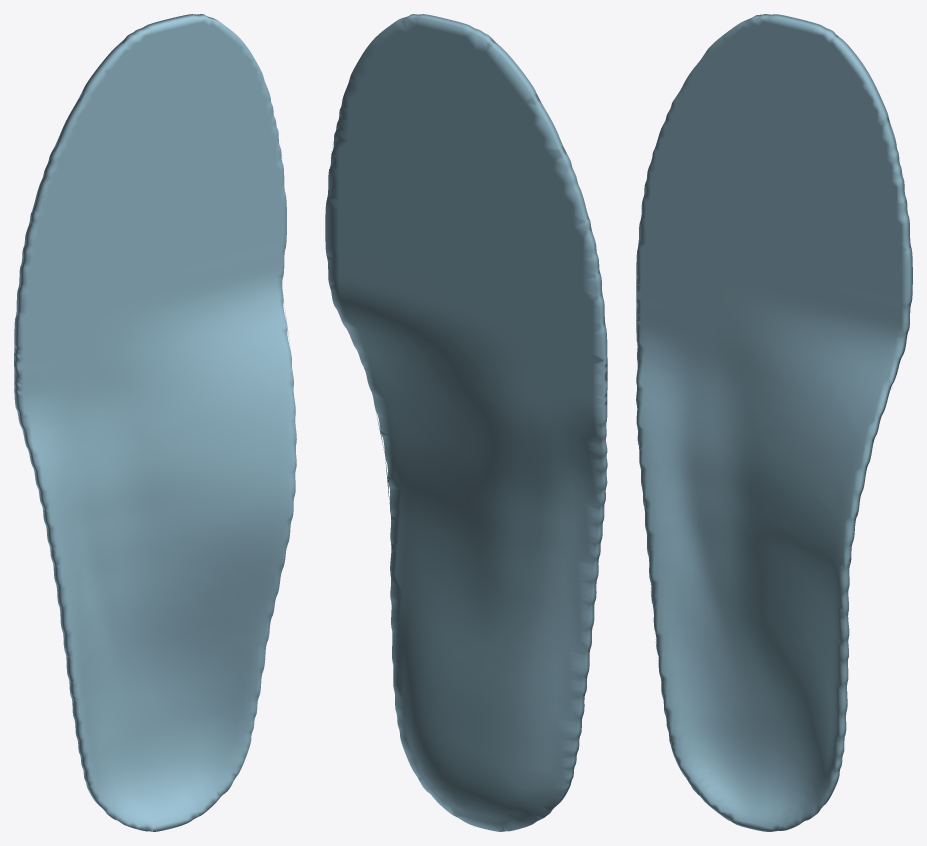
Rendered from PAIR-TOP-COVER_T14_addon.glb.
3 renders of one model, left to right at view 1: azimuth 30°, elevation 25°; view 2: azimuth 150°, elevation 25°; view 3: azimuth 330°, elevation 25°, orthographic. The views are drawn at different scales.
Parts seen in each view (by area): view 1: geometry_0; view 2: geometry_0; view 3: geometry_0.
Boxes of the visible parts, x1,y1,x2,y2 form: geometry_0: [14, 14, 296, 831]; geometry_0: [325, 14, 607, 831]; geometry_0: [636, 14, 912, 831].
Bounding box in the file's own units: 99.51 × 280 × 24.81.
